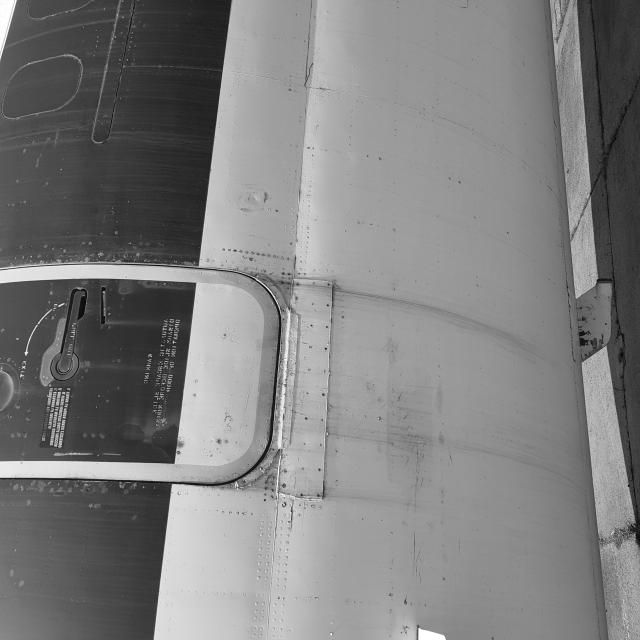Rupture: (303, 60, 320, 86)
